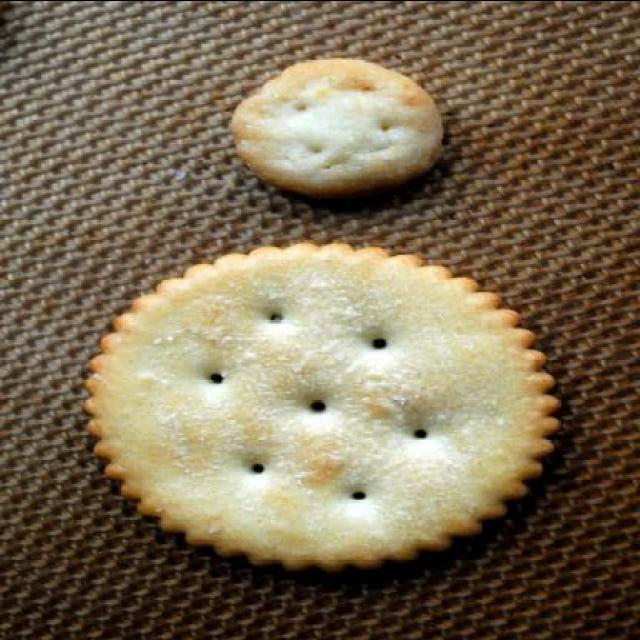Ritz cracker packaged: (84, 242, 576, 574)
